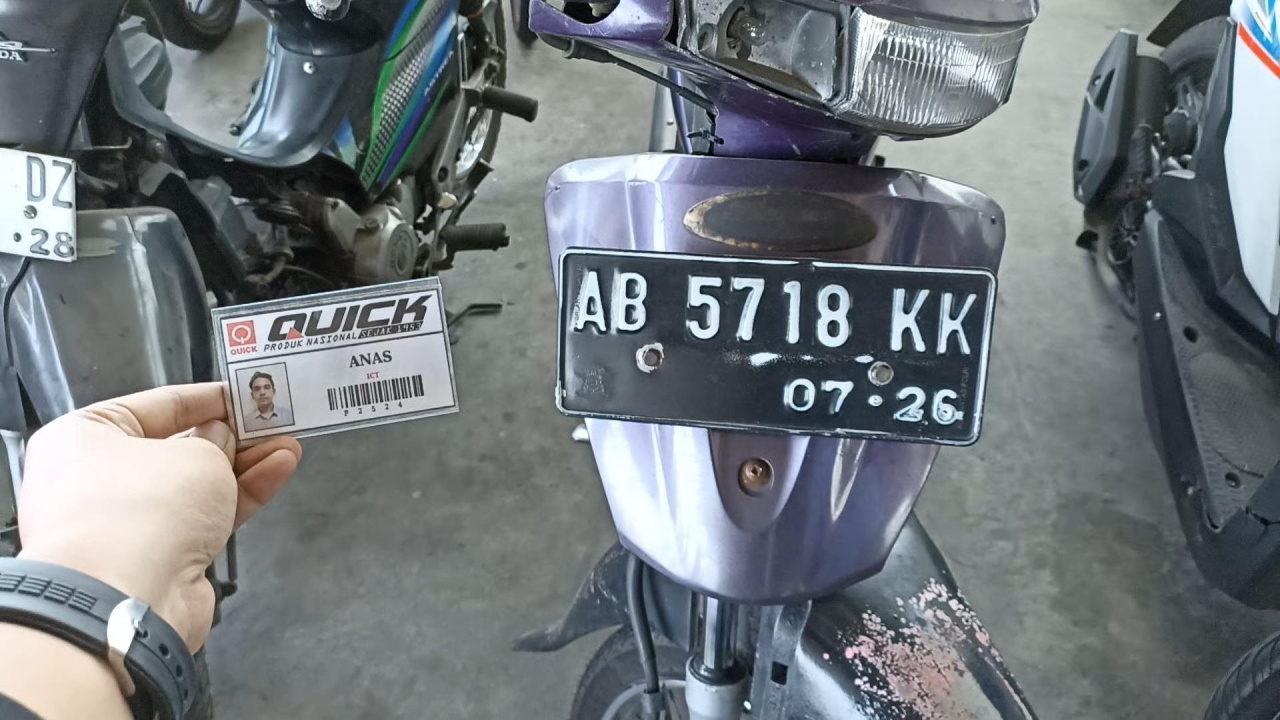plate: (557, 249, 996, 447)
